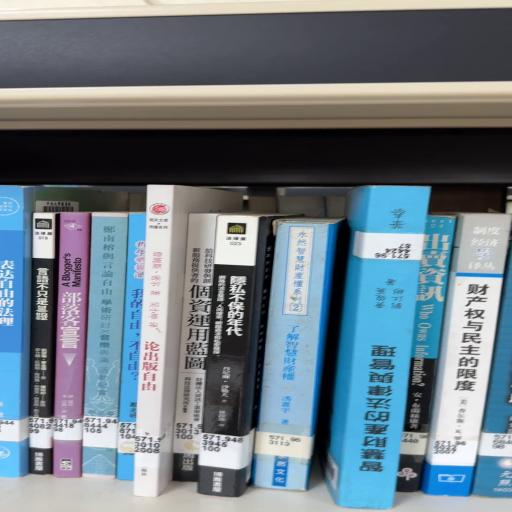reverse: (323, 187, 431, 510)
